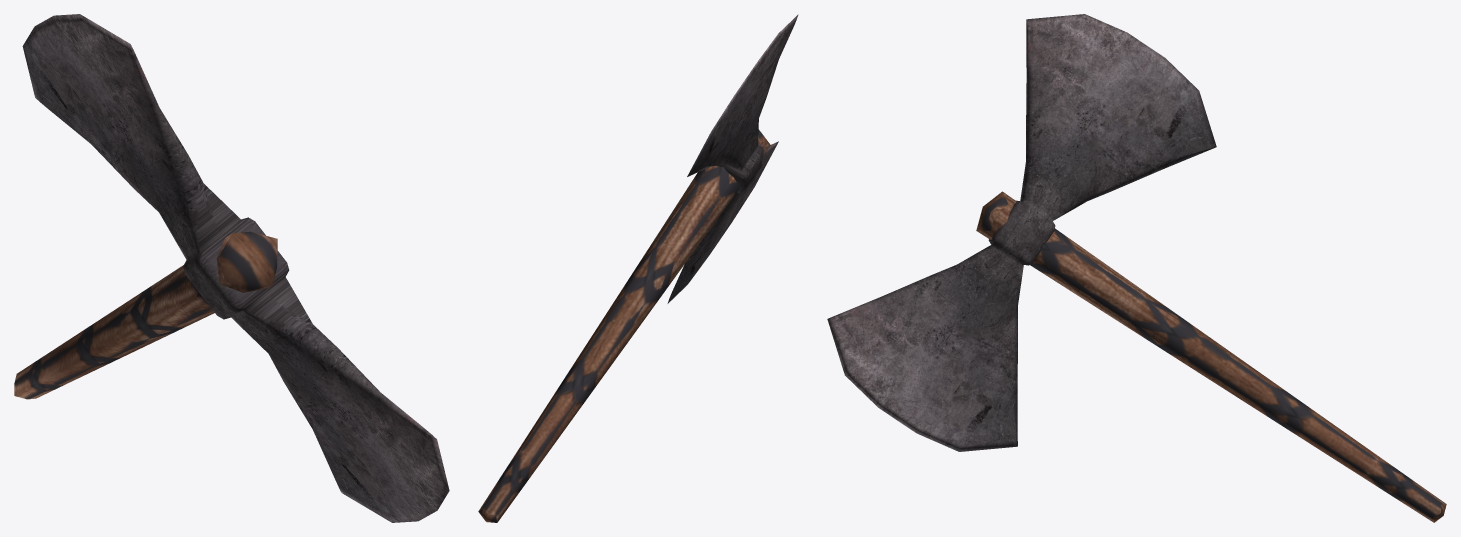
Rendered from Axe.fbx.
3 renders of one model, left to right at view 1: azimuth 30°, elevation 25°; view 2: azimuth 150°, elevation 25°; view 3: azimuth 270°, elevation 25°, orthographic. The views are drawn at different scales.
Parts seen in each view (by area): view 1: Cube; view 2: Cube; view 3: Cube.
Boxes of the visible parts, x1,y1,x2,y2 form: Cube: (14, 14, 449, 522); Cube: (478, 14, 798, 522); Cube: (827, 14, 1446, 522).
Size of the model in its own units: 55.19 by 143 by 183.
